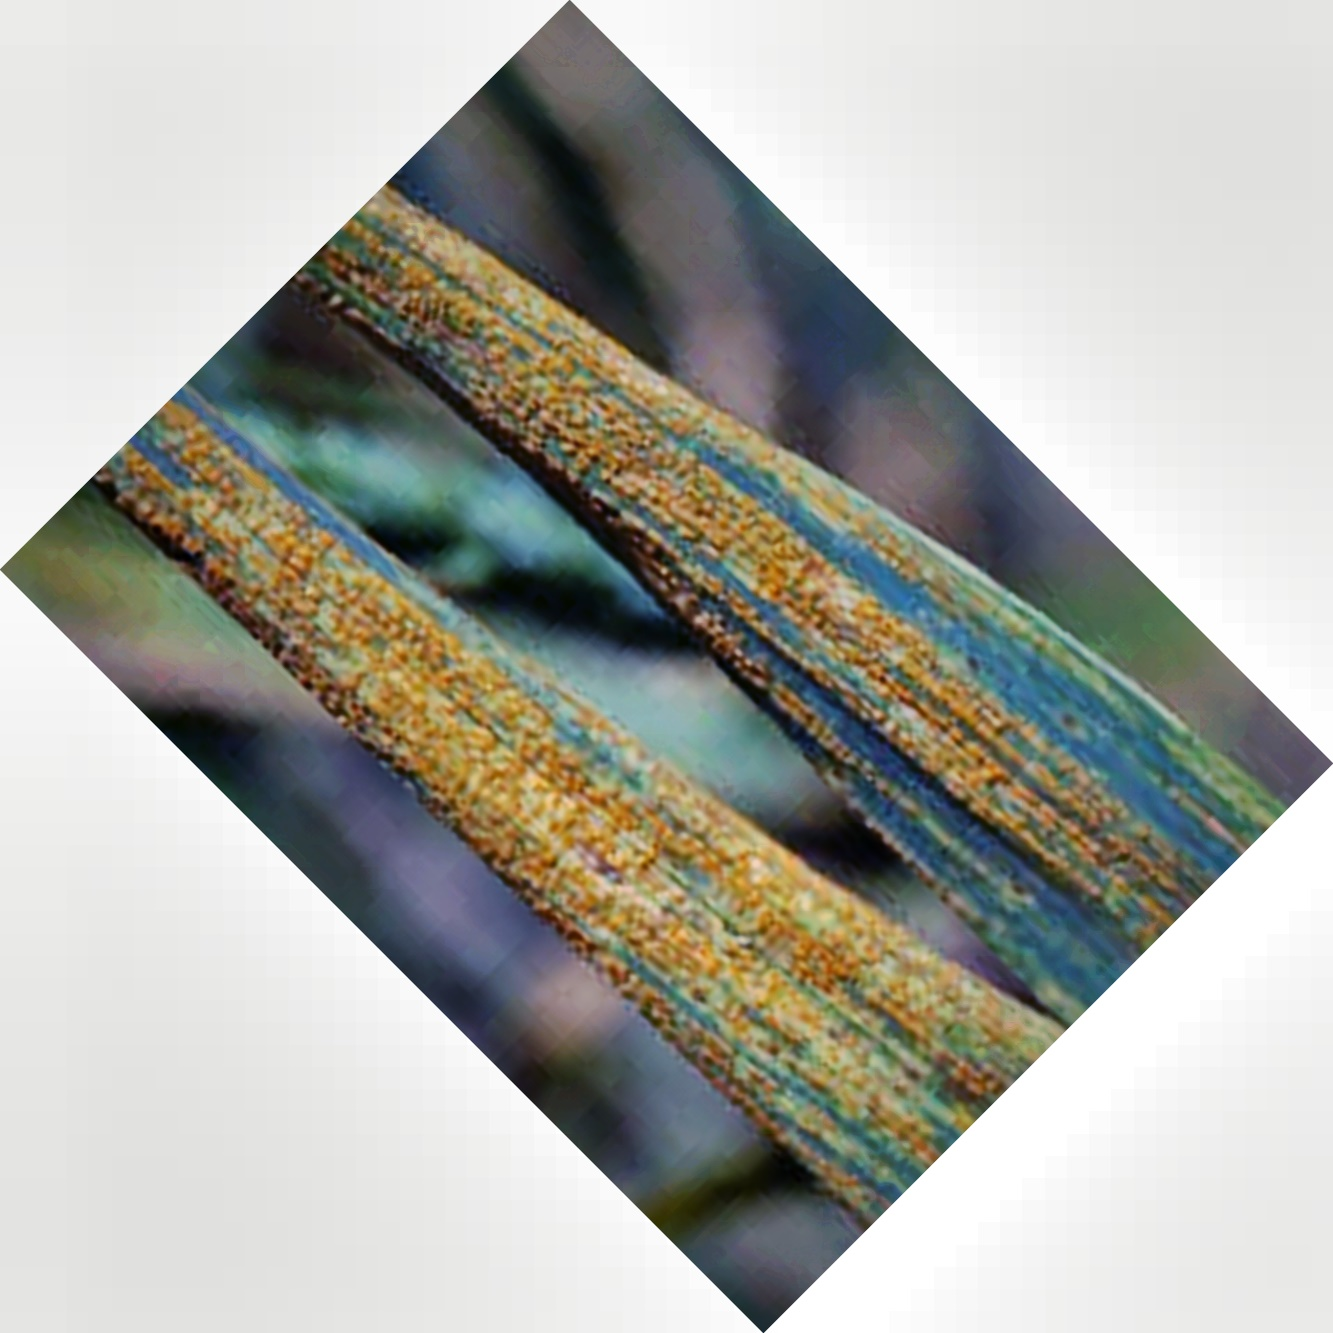Leaf Rust: (143, 459, 1046, 1106)
